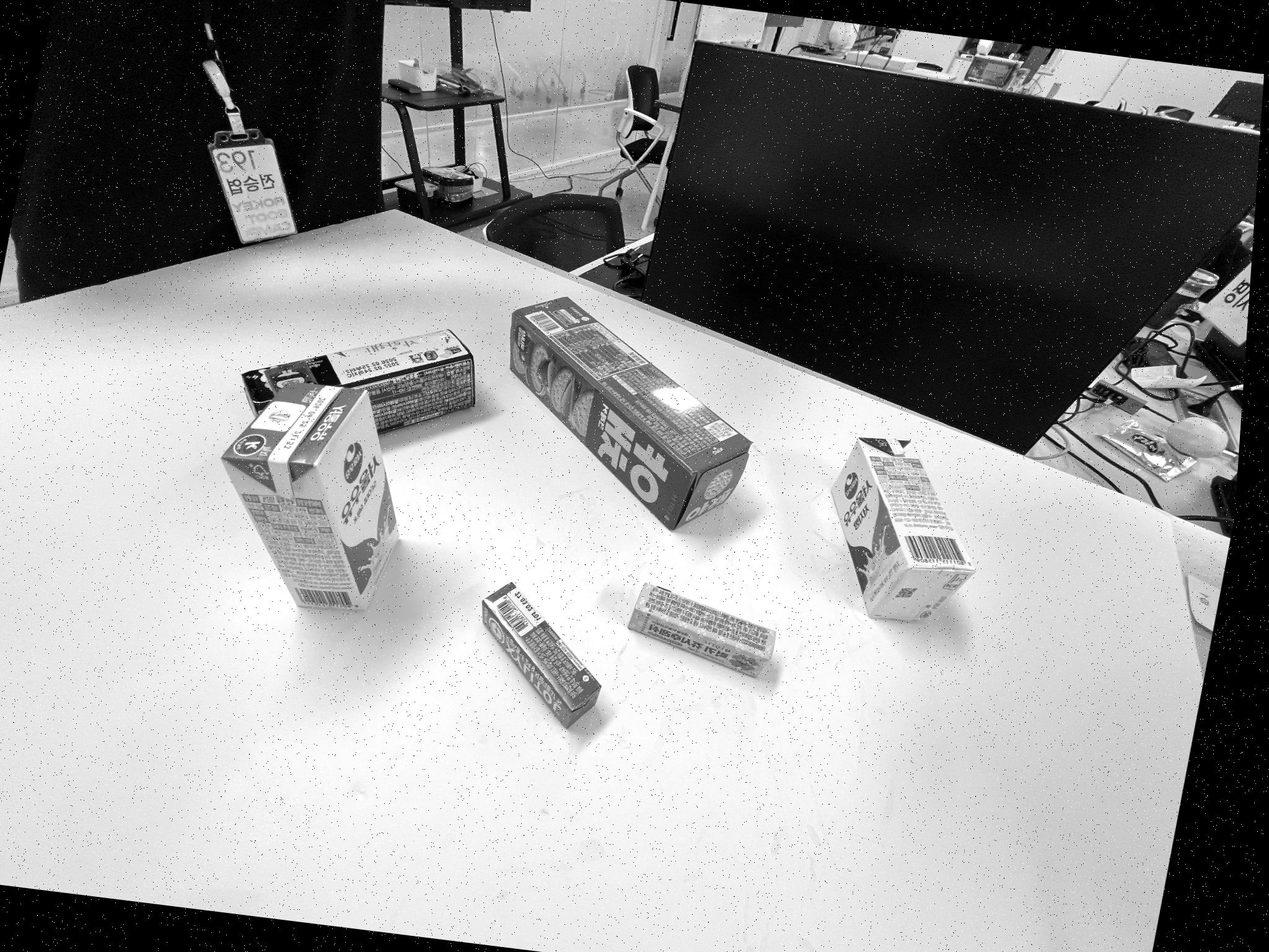cracker_ace: (241, 329, 475, 433)
cracker_vege: (508, 298, 749, 529)
gum_green: (482, 583, 601, 727)
gum_yellow: (628, 583, 775, 677)
milk_blue: (832, 437, 975, 621)
milk_green: (222, 382, 398, 609)
